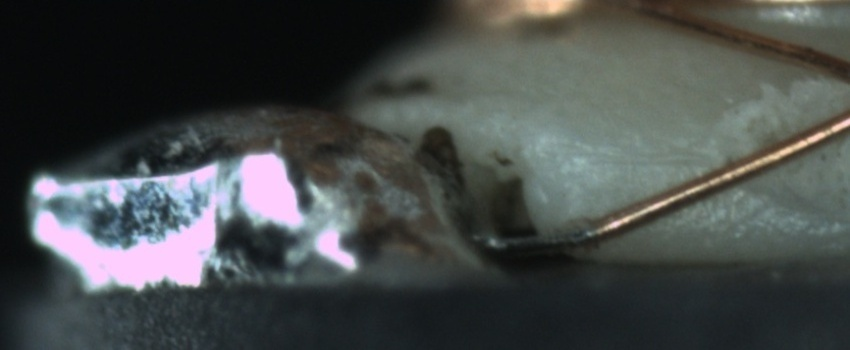DL: (572, 127, 715, 189)
